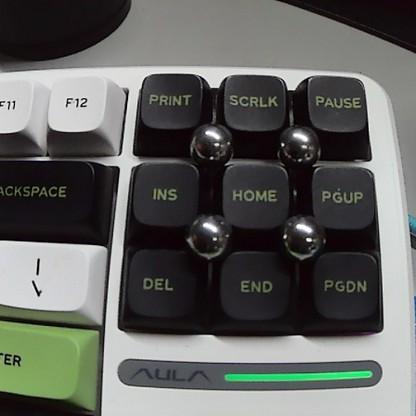ironball: (184, 117, 233, 177), (182, 208, 236, 259), (268, 125, 325, 171), (278, 207, 321, 263)
